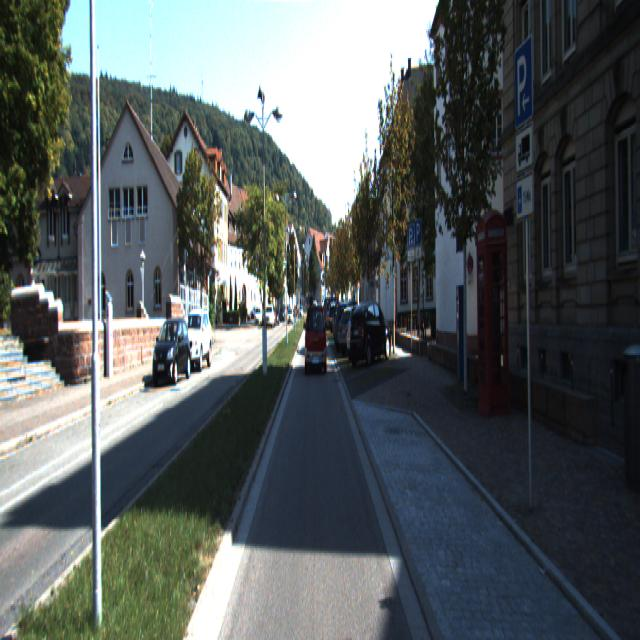Car: (349, 299, 392, 367), (152, 320, 193, 387), (346, 305, 388, 365), (179, 310, 213, 372), (336, 304, 376, 355), (333, 302, 368, 354), (306, 306, 328, 375)
DontCare: (248, 294, 304, 332)
